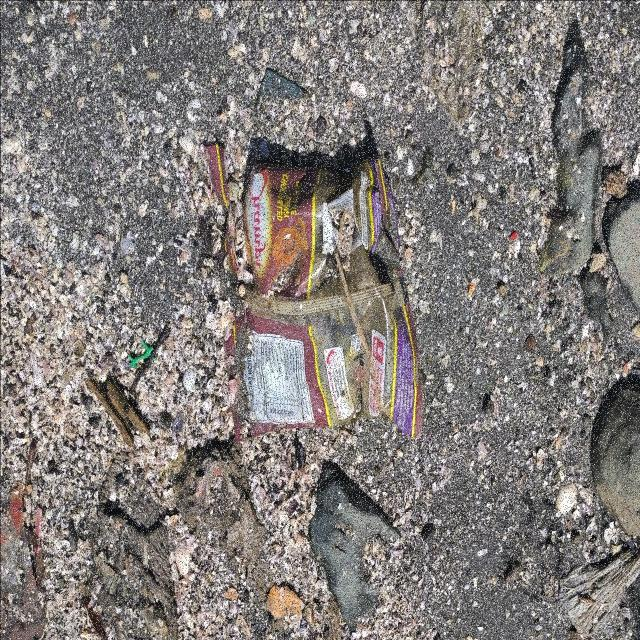plastic_waste: (204, 139, 424, 447)
